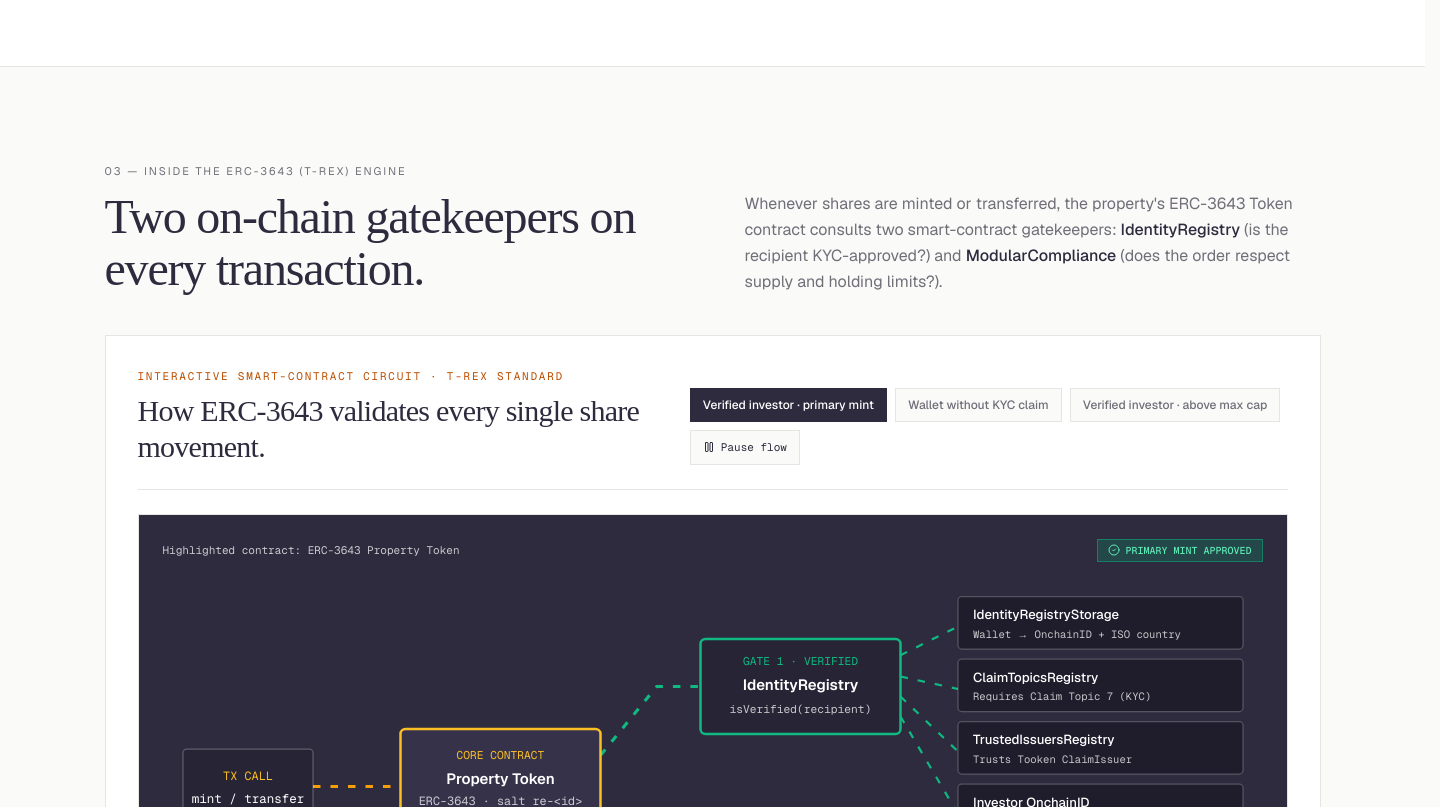
Test case: HowItWorksPage › simulates all three ERC-3643 gatekeeper scenarios and contract inspection
(page scrolled)
Expected: the text "PRIMARY MINT APPROVED" is shown, [1096,538,1262,562]
Click the button "Wallet without KYC claim": (978, 405) [895,388,1062,422]
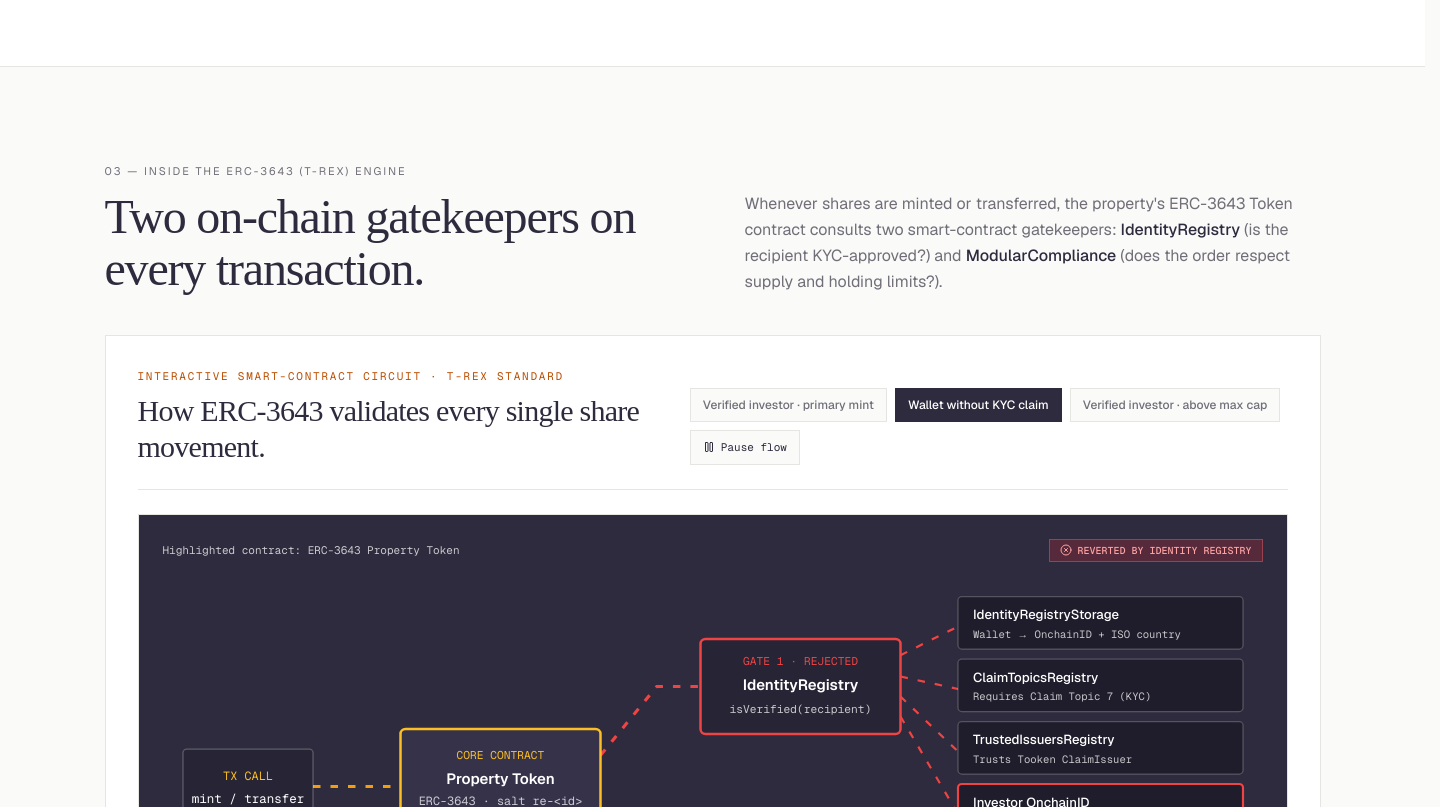
Result: the text "REVERTED BY IDENTITY REGISTRY" is shown at [1048,538,1262,562]
Click the button "Verified investor · above max cap": (1175, 405) [1070,388,1280,422]
(page scrolled)
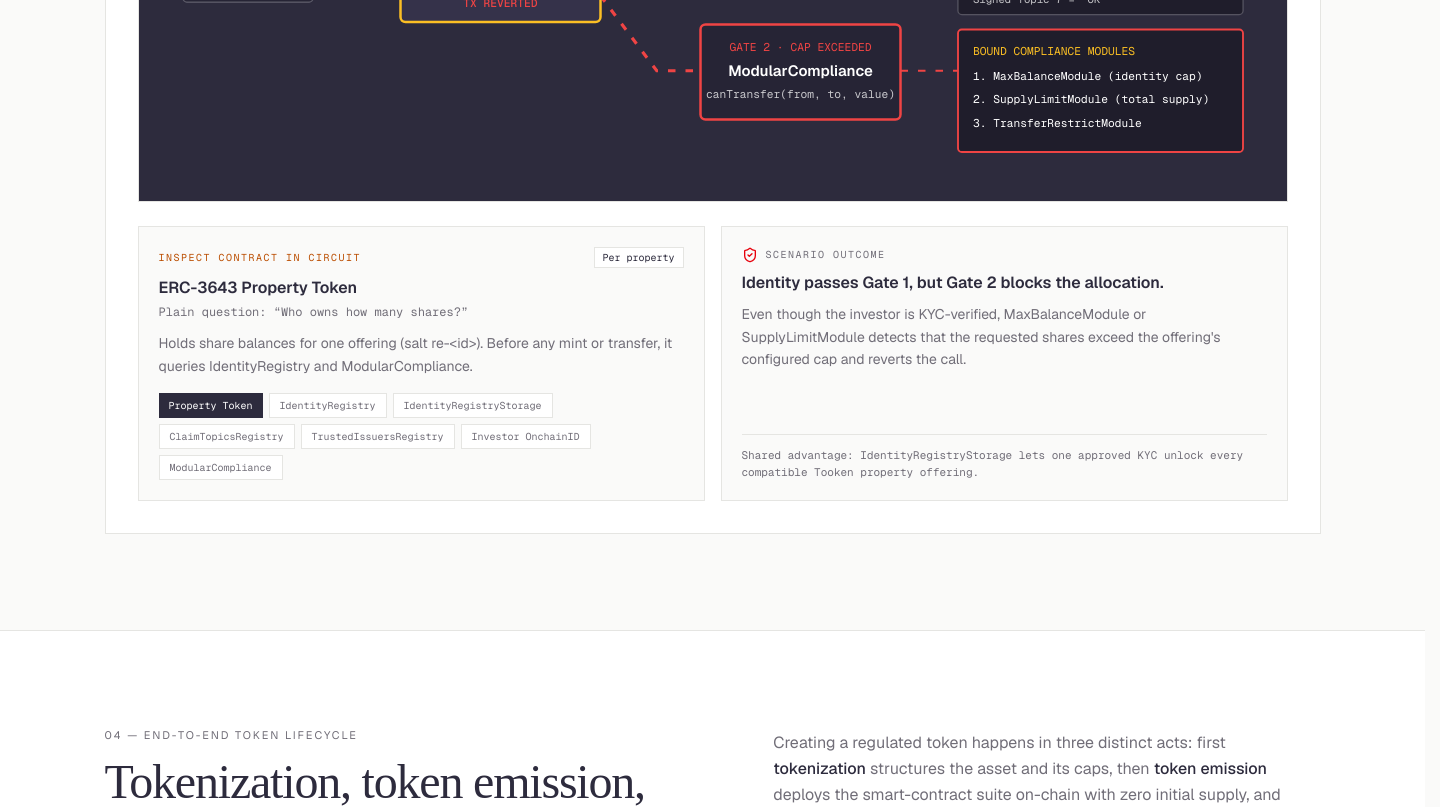
Click the button "IdentityRegistryStorage": (472, 406) [392,393,552,418]
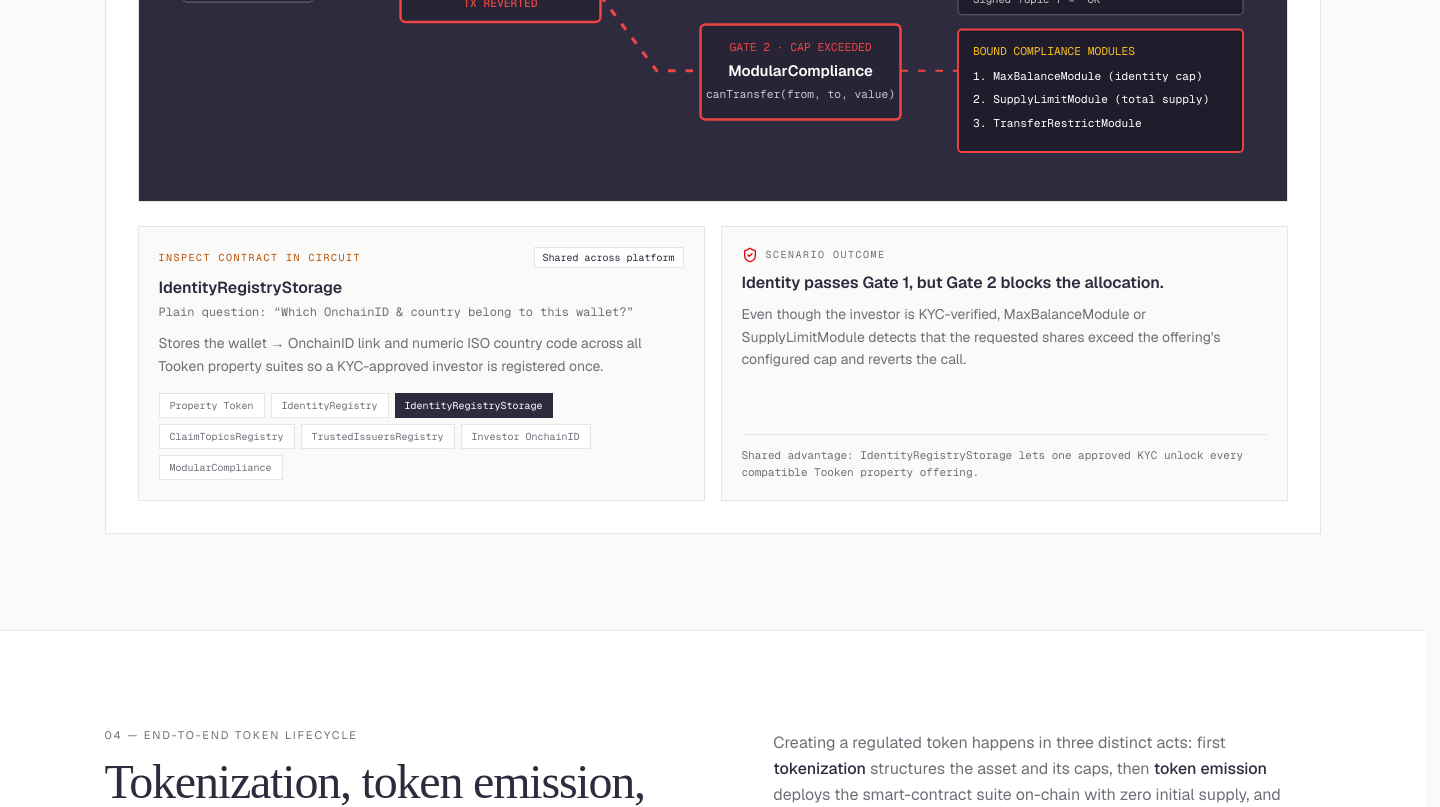
Result: the text "Stores the wallet → OnchainID link and numeric ISO country code" is shown at [158,334,642,375]
